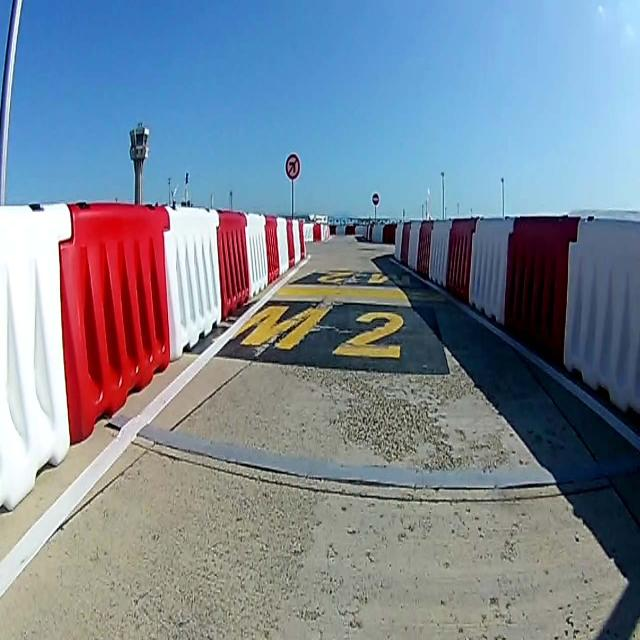soladonulmez: (285, 153, 301, 179)
